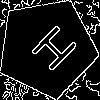H: (22, 23, 80, 81)
